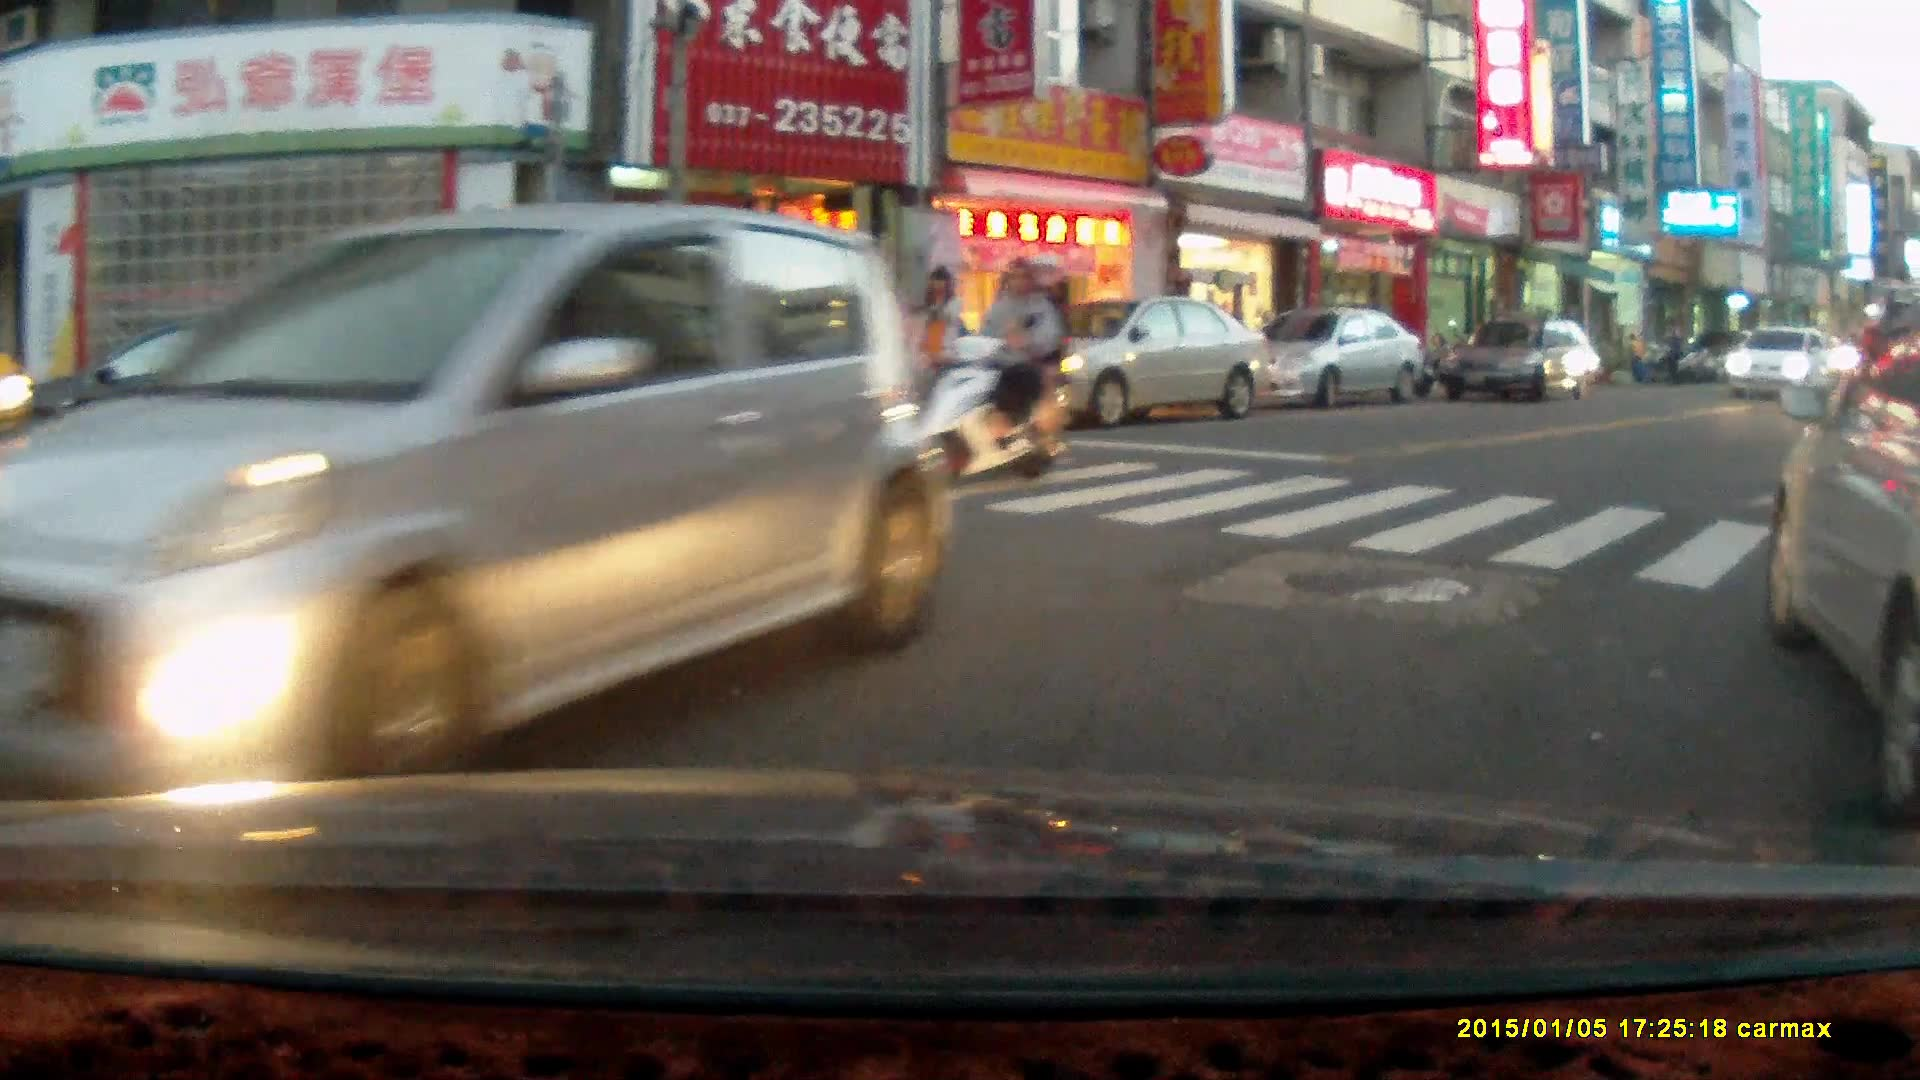pedestrian: (914, 265, 964, 417)
rider: (899, 250, 1071, 490)
vehicle: (1, 200, 969, 809), (1759, 319, 1920, 753), (994, 297, 1276, 424), (1236, 309, 1429, 404), (1436, 317, 1604, 409), (1720, 324, 1841, 401)
